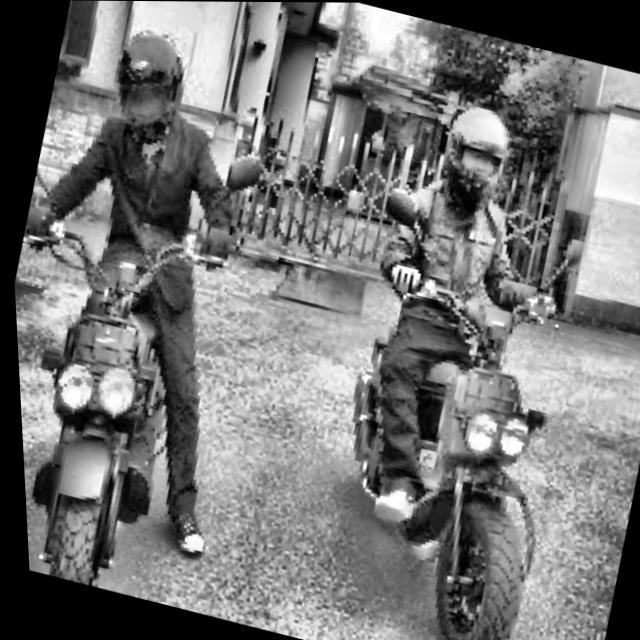motorcycle: (248, 149, 640, 640), (4, 101, 300, 612)
